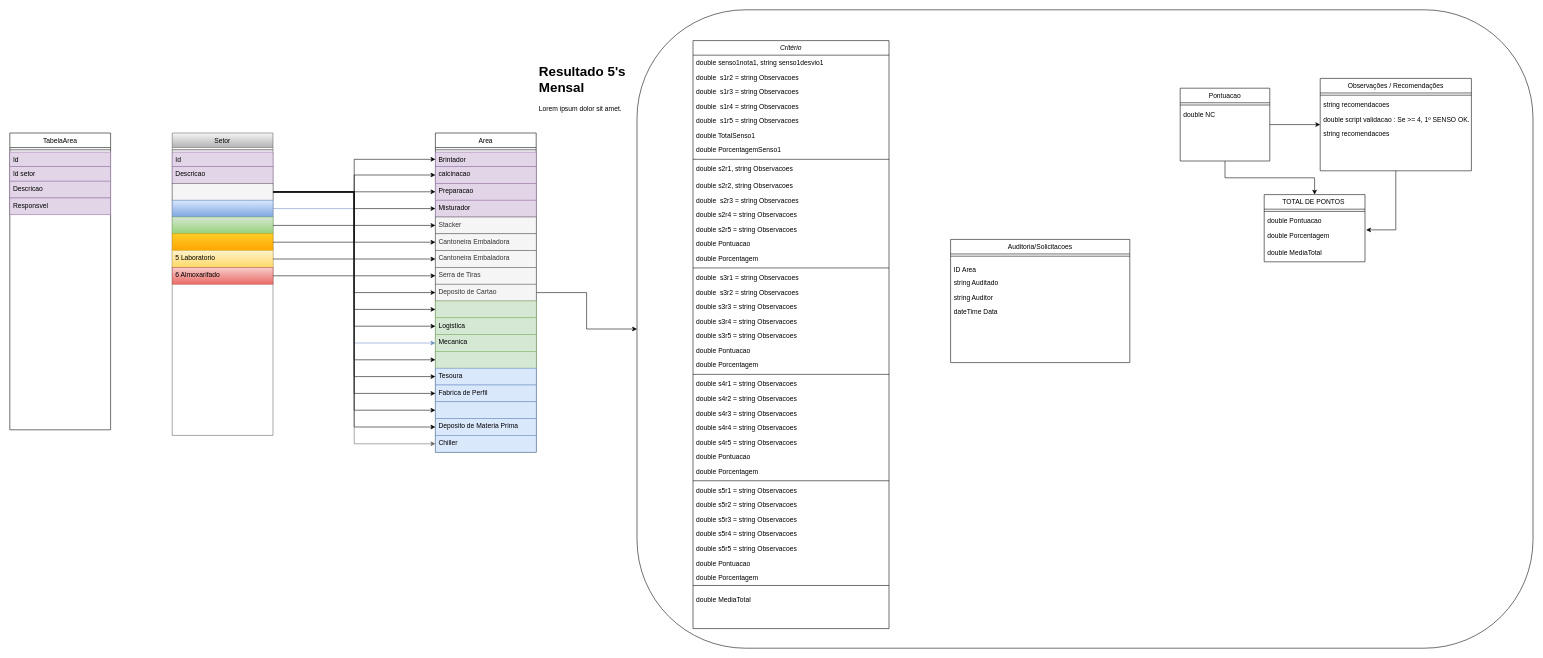
This 1543x658 diagram has some shape labels left out. Each missing label, with the centre of its shape:
1 producao: pixel 222 191
2 Manutencao mecanica: pixel 222 208
3 Manutencao eletrica: pixel 222 225
4 Logistica / expedicao: pixel 222 242
Almoxarifado: pixel 485 410
Eletrica: pixel 485 359
Qualidade: pixel 485 309
